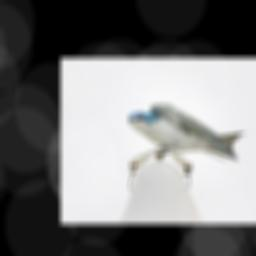Swallow: (127, 103, 247, 164)
